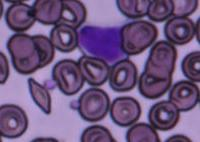L: (76, 22, 124, 64)
